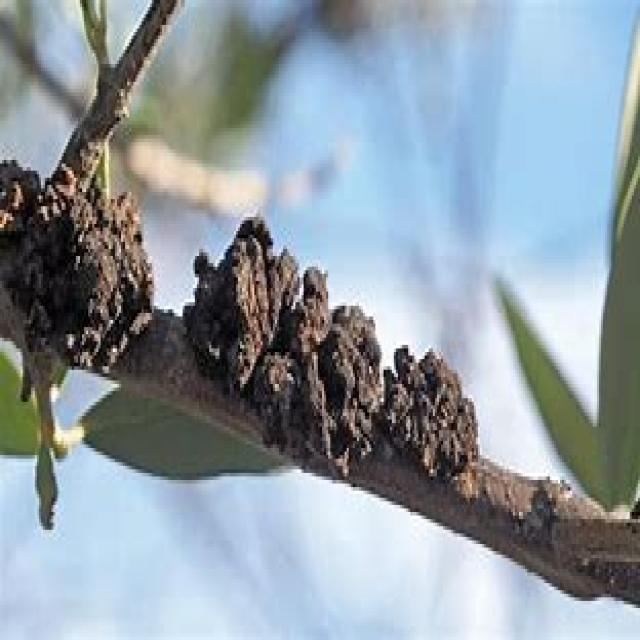Tuberculosis: (183, 217, 490, 505), (0, 139, 150, 455)
